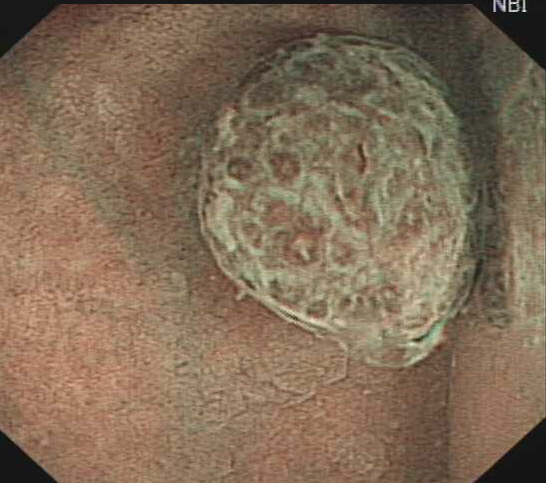others: (194, 32, 485, 372)
